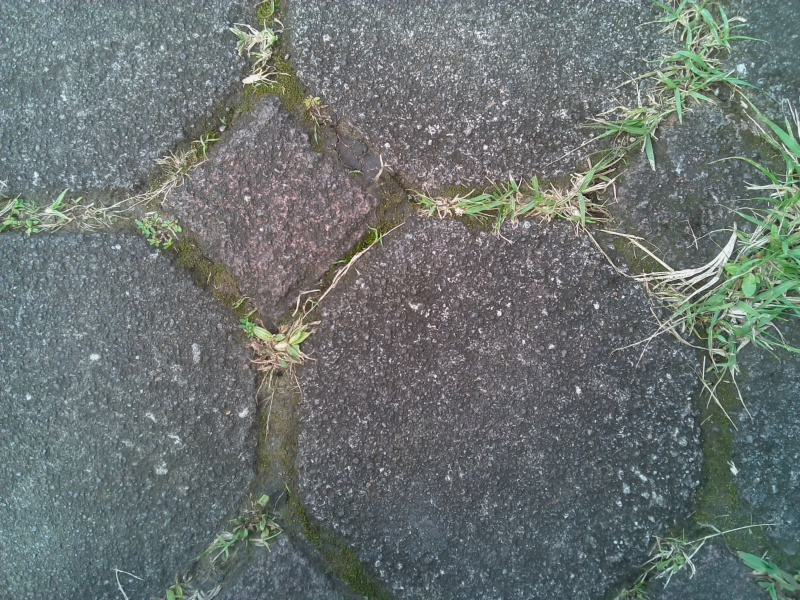Weed: (652, 251, 771, 376), (649, 12, 743, 99), (748, 160, 800, 313), (1, 189, 119, 251), (497, 170, 602, 236), (232, 307, 321, 382), (203, 487, 282, 556), (596, 98, 670, 169), (629, 521, 708, 586), (406, 175, 496, 229), (730, 537, 800, 599), (152, 139, 211, 193), (132, 207, 185, 260), (229, 21, 286, 66), (234, 66, 280, 100), (299, 90, 339, 127)
